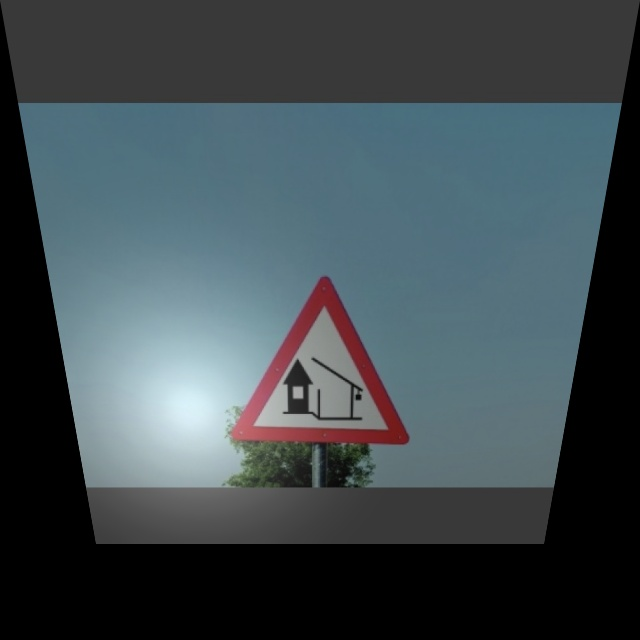Barrier_Ahead: (209, 267, 437, 449)
